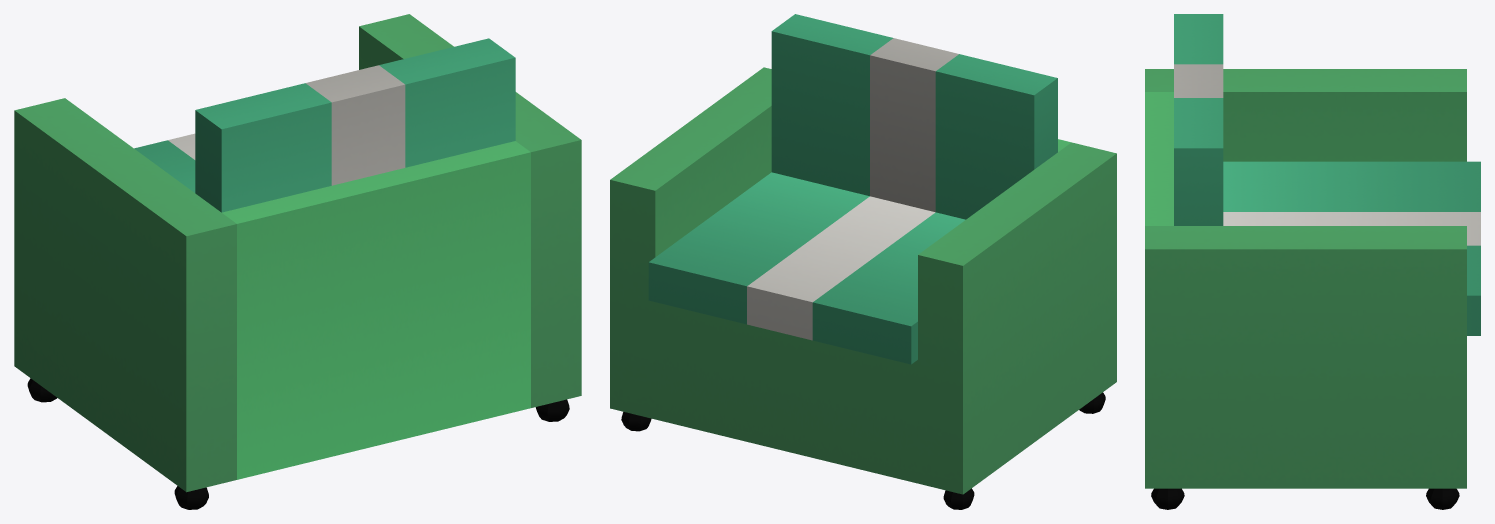
File: PROP_armchair.fbx
The picture shows the model from 3 angles, left to right: view 1: azimuth 30°, elevation 25°; view 2: azimuth 150°, elevation 25°; view 3: azimuth 270°, elevation 25°; orthographic projection. The views are drawn at different scales.
Parts seen in each view (by area): view 1: PROP_armchair; view 2: PROP_armchair; view 3: PROP_armchair.
Boxes of the visible parts, <box> form: PROP_armchair: <box>14,14,581,509</box>; PROP_armchair: <box>610,14,1116,509</box>; PROP_armchair: <box>1145,14,1480,509</box>.
Size of the model in its own units: 115 by 101 by 90.26.
